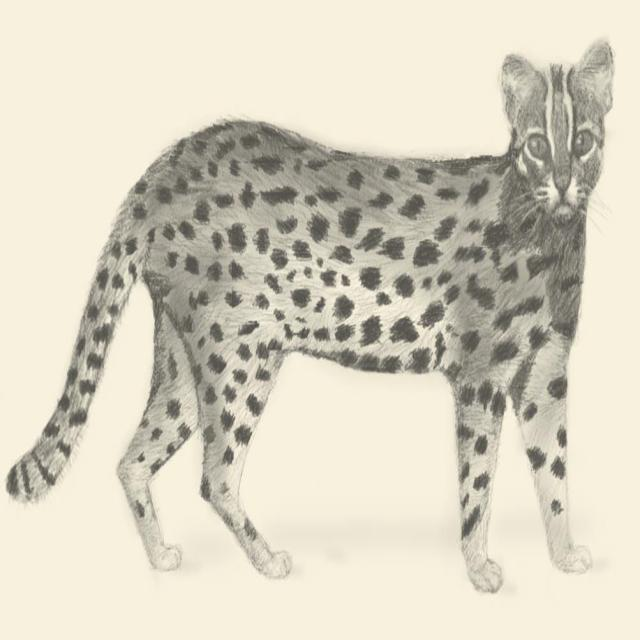leopard: (188, 164, 543, 404), (512, 68, 595, 471)
